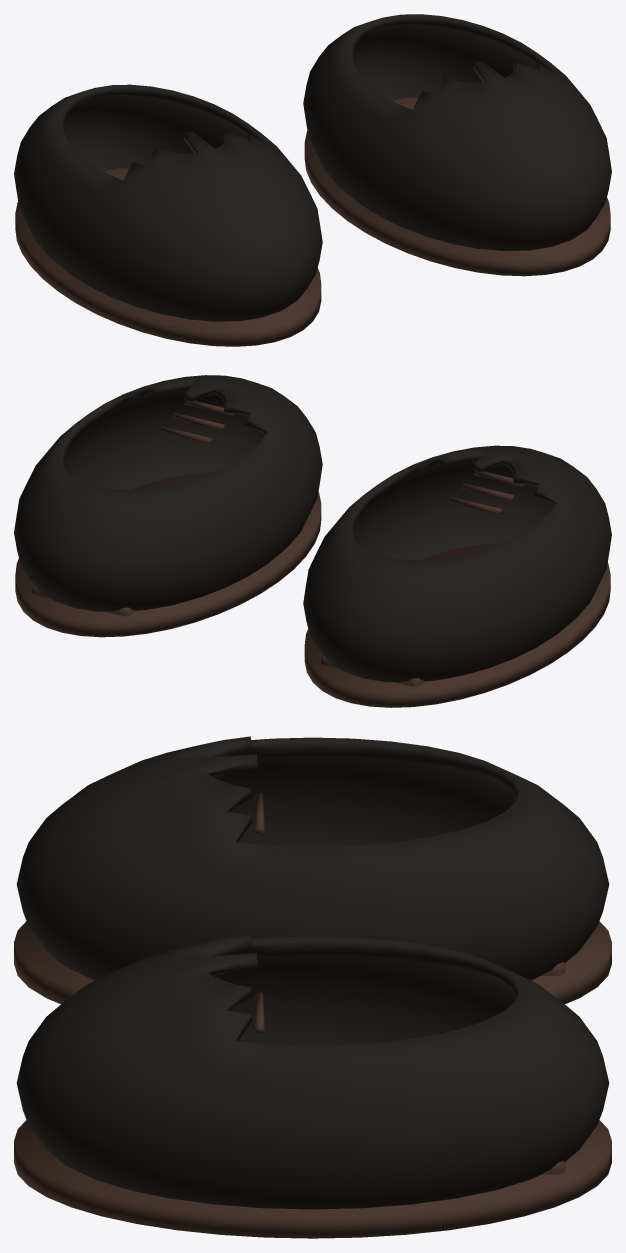
The model's file is tufli1.fbx.
The picture shows the model from 3 angles, top to bottom: view 1: azimuth 30°, elevation 25°; view 2: azimuth 150°, elevation 25°; view 3: azimuth 270°, elevation 25°; orthographic projection. The views are drawn at different scales.
Parts seen in each view (by area): view 1: tufli1; view 2: tufli1; view 3: tufli1.
Part boxes in pixels (x1,y1,x2,y2): tufli1: (14,14,611,346); tufli1: (14,375,611,707); tufli1: (14,736,611,1238).
Size of the model in its own units: 0.63 by 0.176 by 0.45.
